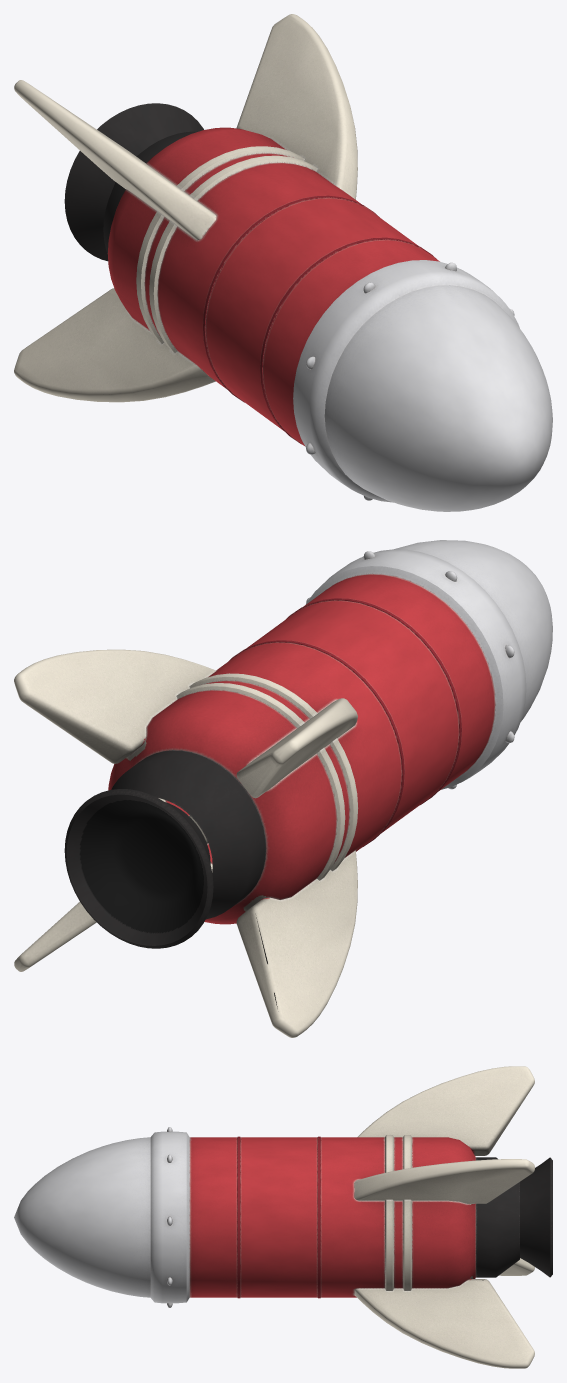
File: SK_Rocket.fbx
3 views of the same model, one above another, from view 1: azimuth 30°, elevation 25°; view 2: azimuth 150°, elevation 25°; view 3: azimuth 270°, elevation 25° (orthographic). The views are drawn at different scales.
Visible parts, largest first — view 1: SK_Rocket; view 2: SK_Rocket; view 3: SK_Rocket.
Boxes of the visible parts, x1,y1,x2,y2 form: SK_Rocket: [14, 14, 552, 511]; SK_Rocket: [14, 540, 552, 1037]; SK_Rocket: [14, 1066, 552, 1368].
Size of the model in its own units: 57.41 by 57.41 by 134.
